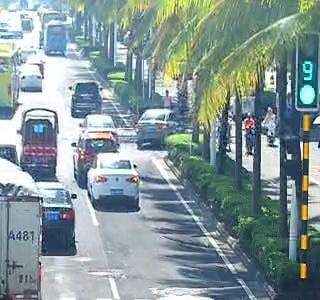greenpeople: (295, 83, 318, 106)
greentime: (300, 61, 318, 79)
